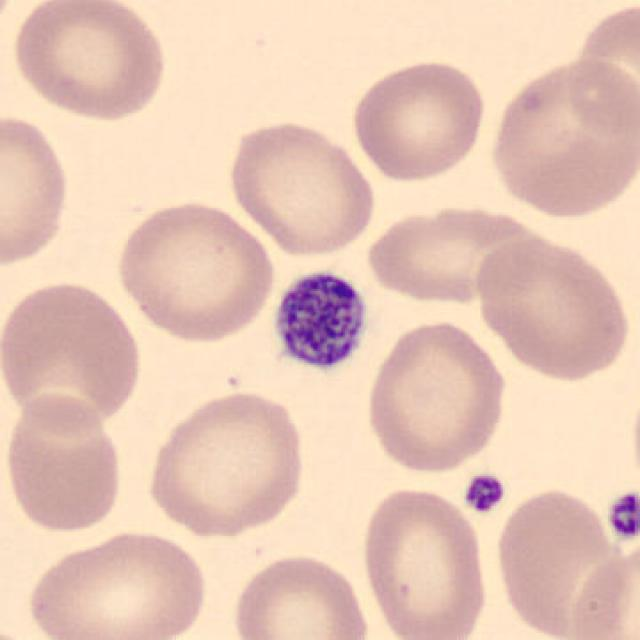Platelets: (265, 262, 371, 376), (602, 486, 640, 544), (461, 471, 508, 516)
RBC: (486, 53, 638, 222), (142, 388, 311, 539), (112, 196, 279, 346), (471, 231, 633, 384), (361, 317, 510, 476), (0, 275, 146, 436), (222, 115, 379, 259), (22, 527, 212, 640), (490, 483, 628, 638), (358, 481, 492, 640), (5, 0, 170, 123), (363, 199, 549, 307), (0, 390, 128, 536), (347, 55, 489, 185), (228, 550, 374, 640), (0, 108, 73, 273), (562, 2, 640, 141), (563, 541, 640, 639)
